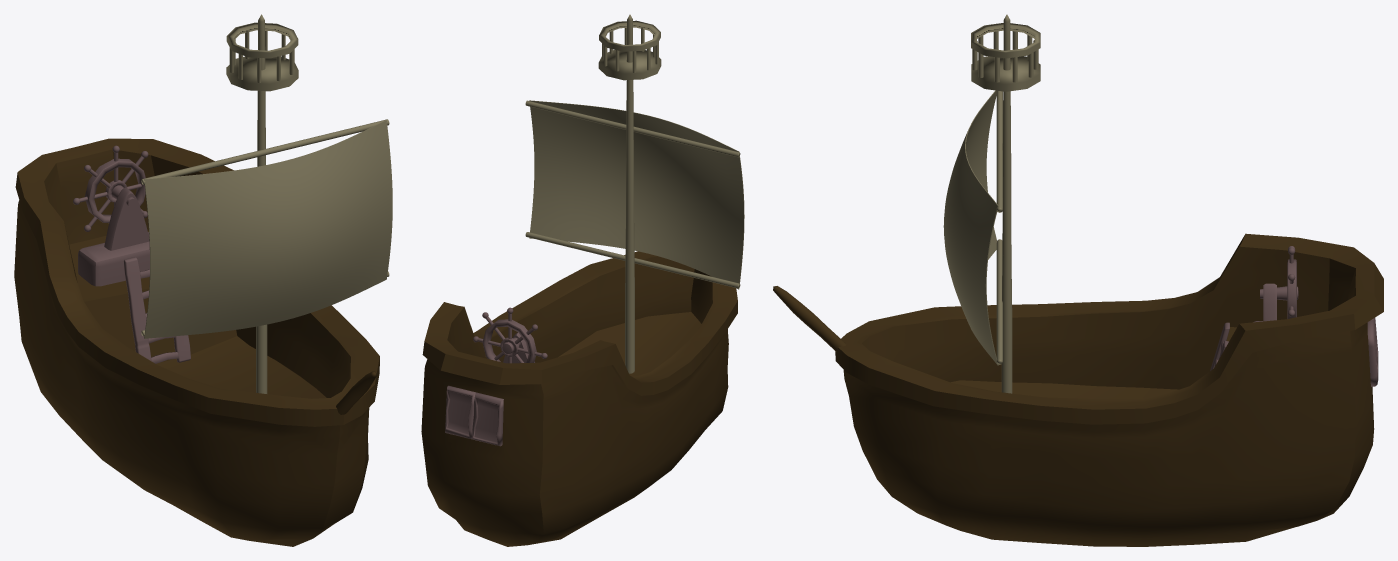
File: ShipLvl1.fbx
3 renders of one model, left to right at view 1: azimuth 30°, elevation 25°; view 2: azimuth 150°, elevation 25°; view 3: azimuth 270°, elevation 25°, orthographic. The views are drawn at different scales.
Parts seen in each view (by area): view 1: pCylinder111, pCylinder101, pCylinder110, pCube19, pSphere7; view 2: pCylinder111, pCylinder101, pSphere7, polySurface3, polySurface4, pCylinder110; view 3: pCylinder111, pCylinder101, pCylinder110.
Boxes of the visible parts, bbox=[...] form: pCylinder111: bbox=[14, 138, 379, 546]; pCylinder101: bbox=[141, 14, 392, 393]; pCylinder110: bbox=[78, 185, 149, 286]; pCube19: bbox=[123, 257, 190, 363]; pSphere7: bbox=[73, 145, 148, 231]; pCylinder111: bbox=[421, 251, 737, 546]; pCylinder101: bbox=[525, 14, 744, 373]; pSphere7: bbox=[473, 307, 547, 363]; polySurface3: bbox=[472, 392, 503, 446]; polySurface4: bbox=[445, 385, 476, 439]; pCylinder110: bbox=[502, 332, 534, 363]; pCylinder111: bbox=[773, 233, 1383, 546]; pCylinder101: bbox=[943, 14, 1040, 393]; pCylinder110: bbox=[1253, 283, 1298, 322].
Size of the model in its own units: 2.91 by 5.99 by 6.26.
